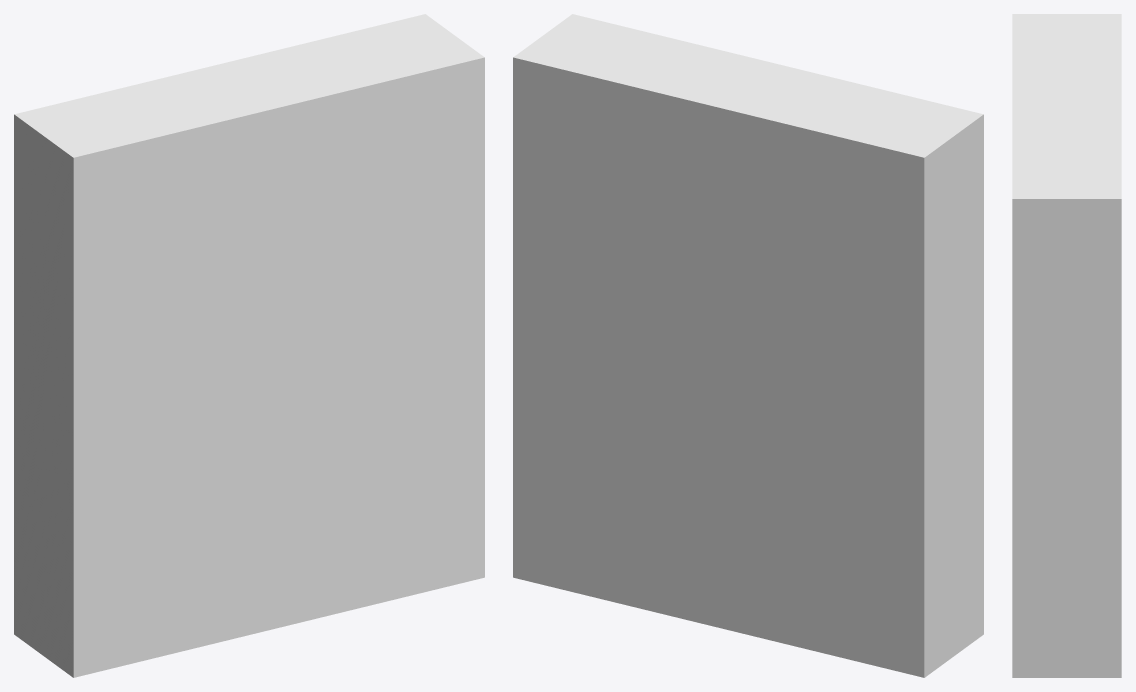
File: DividerWallLarge.fbx
3 renders of one model, left to right at view 1: azimuth 30°, elevation 25°; view 2: azimuth 150°, elevation 25°; view 3: azimuth 270°, elevation 25°, orthographic. The views are drawn at different scales.
Visible parts, largest first — view 1: DividerWallLarge; view 2: DividerWallLarge; view 3: DividerWallLarge.
Part boxes in pixels (x1,y1,x2,y2): DividerWallLarge: [14, 14, 484, 677]; DividerWallLarge: [513, 14, 983, 677]; DividerWallLarge: [1012, 14, 1121, 677].
Bounding box in the file's own units: 120 × 145 × 30.
1 material, 1 textured.
